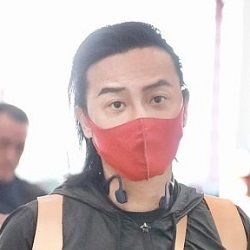mask: (75, 95, 190, 183)
